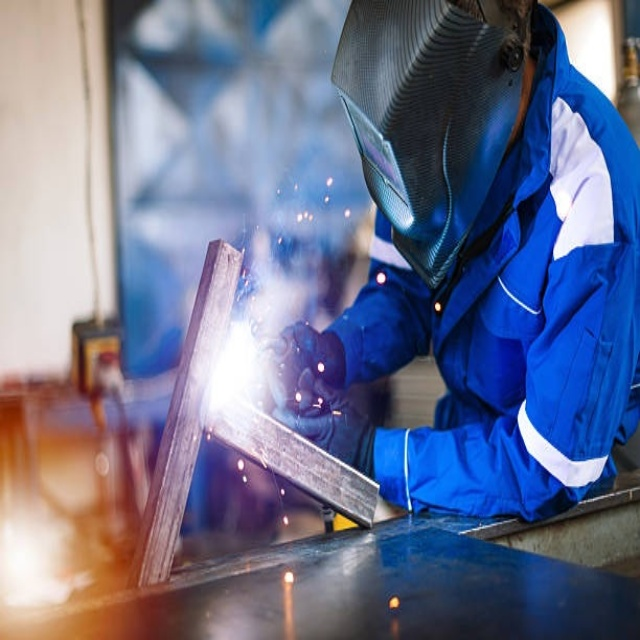Guantes: (273, 378, 374, 477), (263, 320, 345, 415)
